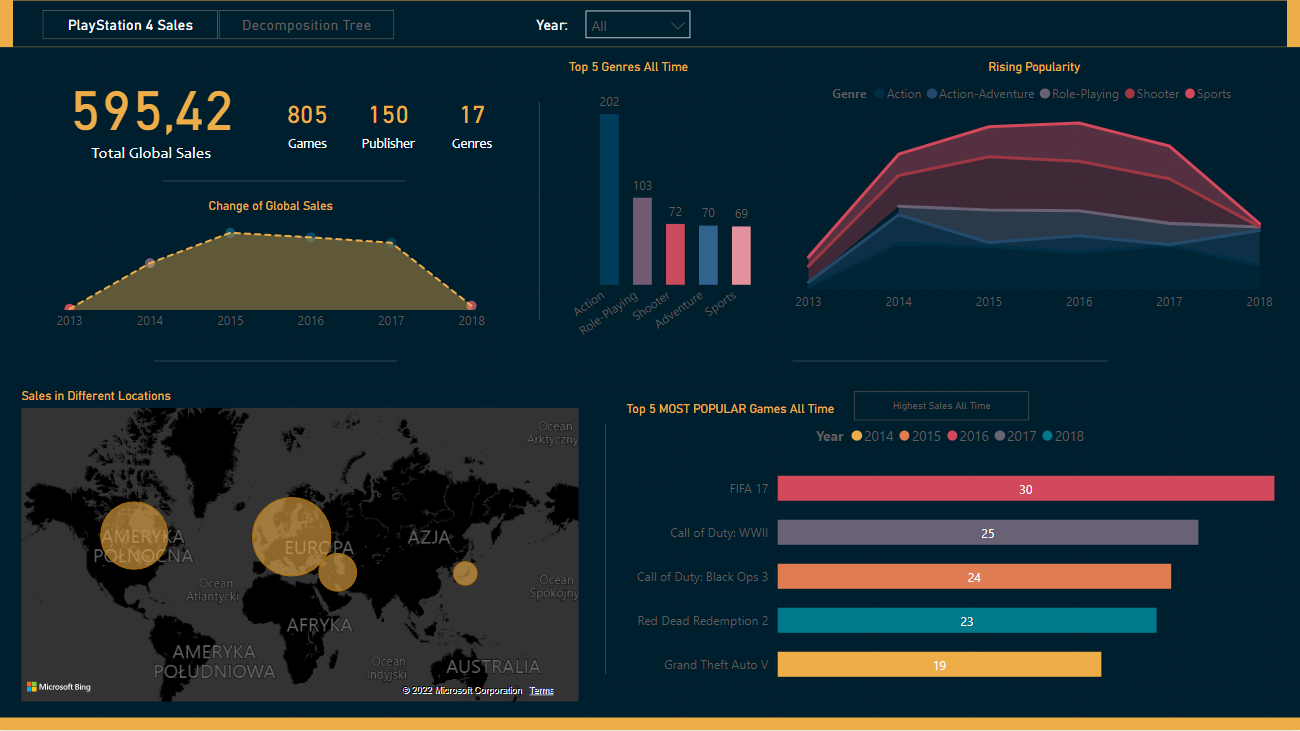

Layout of this report page (visuals, bound fields, positions):
{"tool":"powerbi","page":{"name":"PlayStation 4 Sales","canvas":[1280,720],"ordinal":0},"visuals":[{"type":"basicShape","box":[487.3,90.2,87.3,235.6],"z":0},{"type":"basicShape","box":[0,0,1280,46.7],"z":1000},{"type":"basicShape","box":[0,706.5,1280,13.5],"z":2000},{"type":"actionButton","box":[215.3,10.2,173.1,29.1],"z":3000},{"type":"map","title":"Sales in Different Locations","fields":{"Category":["Total Sales.Location"],"Size":["Sum(Total Sales.Sales)"]},"box":[16.5,383.2,559,313.1],"z":4000},{"type":"actionButton","box":[42.2,10.2,173.1,29.1],"z":5000},{"type":"basicShape","box":[552.7,407.3,87.3,266.2],"z":6000},{"type":"card","fields":{"Values":["Sum(PS4_GamesSales.Global)"]},"box":[32,46.5,234.2,130.9],"z":7000},{"type":"actionButton","box":[512,4.4,62.5,39.3],"z":8000},{"type":"basicShape","box":[770.9,309.8,330.2,90.2],"z":9000},{"type":"pythonVisual","fields":{"Values":["PS4_GamesSales.Year","Sum(PS4_GamesSales.Global)"]},"box":[17.1,210.7,468.4,136.7],"z":10000},{"type":"clusteredColumnChart","title":"Top 5 Genres All Time","fields":{"Category":["PS4_GamesSales.Genre"],"Y":["CountNonNull(PS4_GamesSales.Game)"]},"box":[555.6,59.6,203.6,295.3],"z":12000},{"type":"card","fields":{"Values":["Count(PS4_GamesSales.Publisher)"]},"box":[340.4,82.9,82.9,75.6],"z":16000},{"type":"card","fields":{"Values":["Count(PS4_GamesSales.Game)"]},"box":[266.2,82.9,74.2,75.6],"z":18000},{"type":"card","fields":{"Values":["Count(PS4_GamesSales.Genre)"]},"box":[423.3,82.9,82.9,75.6],"z":19000},{"type":"stackedAreaChart","title":"Rising Popularity","fields":{"Category":["PS4_GamesSales.Year"],"Y":["Sum(PS4_GamesSales.Global)"],"Series":["PS4_GamesSales.Genre"]},"box":[755.3,59.3,525.2,256.9],"z":22000},{"type":"barChart","title":"Top 5 MOST POPULAR Games All Time","fields":{"Category":["Highest Sold Game.TopGame"],"Y":["Sum(PS4_GamesSales.Global)"],"Series":["Highest Sold Game.Year"]},"box":[611.6,394.7,652.4,295.1],"z":24000},{"type":"areaChart","title":"Change  of Global Sales","fields":{"Category":["PS4_GamesSales.Year"],"Y":["Sum(PS4_GamesSales.Global)"]},"box":[32.5,196.2,468.7,139.8],"z":26000},{"type":"actionButton","box":[840.3,385.5,173.1,29.1],"z":28000},{"type":"basicShape","box":[149.8,132.4,258.9,90.2],"z":29000},{"type":"basicShape","box":[141.1,309.8,258.9,90.2],"z":30000},{"type":"slicer","fields":{"Values":["PS4_GamesSales.Year"]},"box":[566.4,0,123.6,48],"z":31000}]}

Visuals, with their boxes in screenshot pixels (x1, y1, x2, y2), scaled from the page's 1280x720 canvas onto the 1300x731 screenshot:
basicShape: 495/92/584/331
basicShape: 0/0/1299/47
basicShape: 0/717/1299/730
actionButton: 219/10/394/40
"Sales in Different Locations" map: 17/389/584/707
actionButton: 43/10/219/40
basicShape: 561/414/650/684
card - Sum(PS4_GamesSales.Global): 32/47/270/180
actionButton: 520/4/583/44
basicShape: 783/315/1118/406
pythonVisual - PS4_GamesSales.Year x Sum(PS4_GamesSales.Global): 17/214/493/353
"Top 5 Genres All Time" clusteredColumnChart: 564/61/771/360
card - Count(PS4_GamesSales.Publisher): 346/84/430/161
card - Count(PS4_GamesSales.Game): 270/84/346/161
card - Count(PS4_GamesSales.Genre): 430/84/514/161
"Rising Popularity" stackedAreaChart: 767/60/1299/321
"Top 5 MOST POPULAR Games All Time" barChart: 621/401/1284/700
"Change  of Global Sales" areaChart: 33/199/509/341
actionButton: 853/391/1029/421
basicShape: 152/134/415/226
basicShape: 143/315/406/406
slicer - PS4_GamesSales.Year: 575/0/701/49
